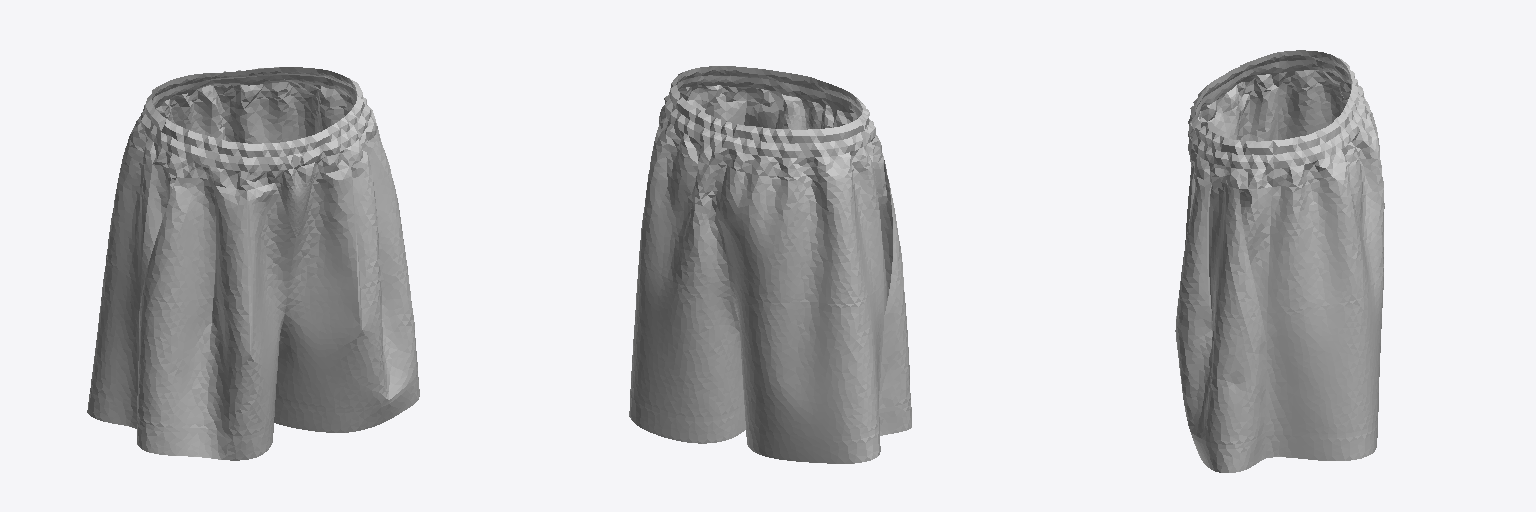
File: Small_Tall.obj
3 views of the same model, side by side, from view 1: azimuth 30°, elevation 25°; view 2: azimuth 150°, elevation 25°; view 3: azimuth 270°, elevation 25° (orthographic).
Parts seen in each view (by area): view 1: duanku.005; view 2: duanku.005; view 3: duanku.005.
Boxes of the visible parts, box(x1,y1,x2,y2) form: duanku.005: box(87, 67, 419, 460); duanku.005: box(629, 66, 911, 463); duanku.005: box(1175, 50, 1384, 472).
Bounding box in the file's own units: 0.453 × 0.5179 × 0.2985.